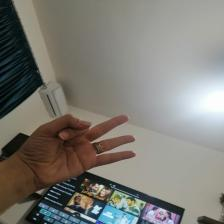five: (32, 113, 143, 176)
